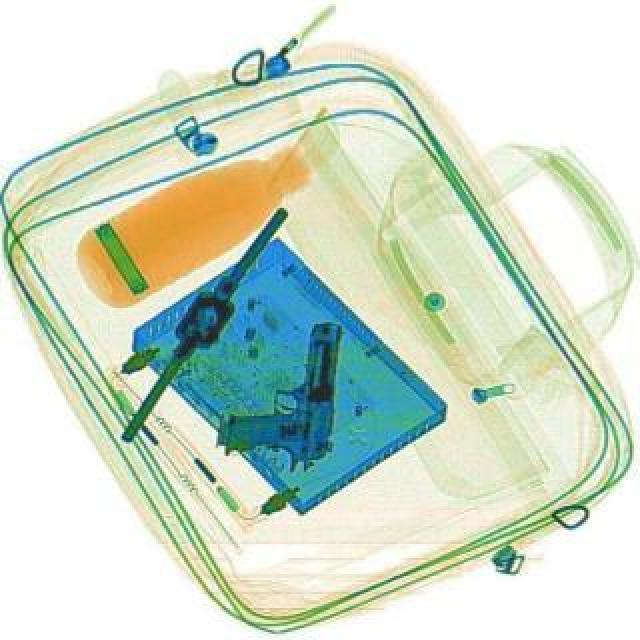gun: (214, 314, 338, 476)
